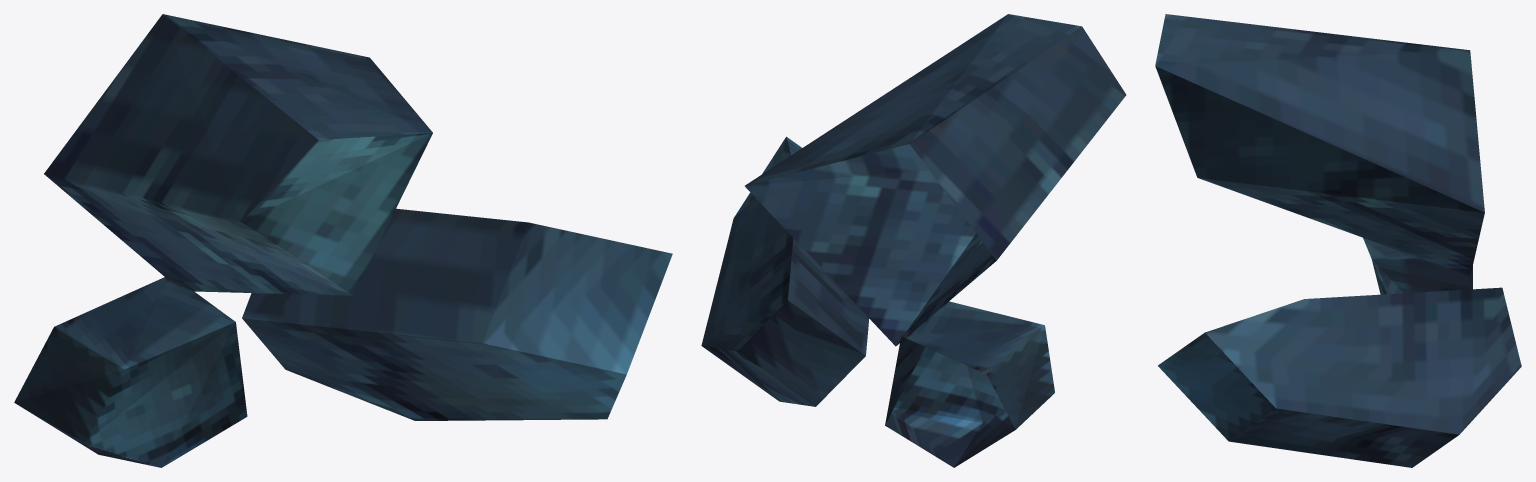
Rendered from shenpanzhishi.obj.
3 renders of one model, left to right at view 1: azimuth 30°, elevation 25°; view 2: azimuth 150°, elevation 25°; view 3: azimuth 270°, elevation 25°, orthographic. The views are drawn at different scales.
Visible parts, largest first — view 1: shenpanzhishi; view 2: shenpanzhishi; view 3: shenpanzhishi.
Boxes of the visible parts, bbox=[...] form: shenpanzhishi: bbox=[14, 14, 672, 467]; shenpanzhishi: bbox=[701, 14, 1126, 467]; shenpanzhishi: bbox=[1155, 14, 1521, 467].
Bounding box in the file's own units: 46.27 × 39.63 × 36.87.
1 material, 1 textured.
